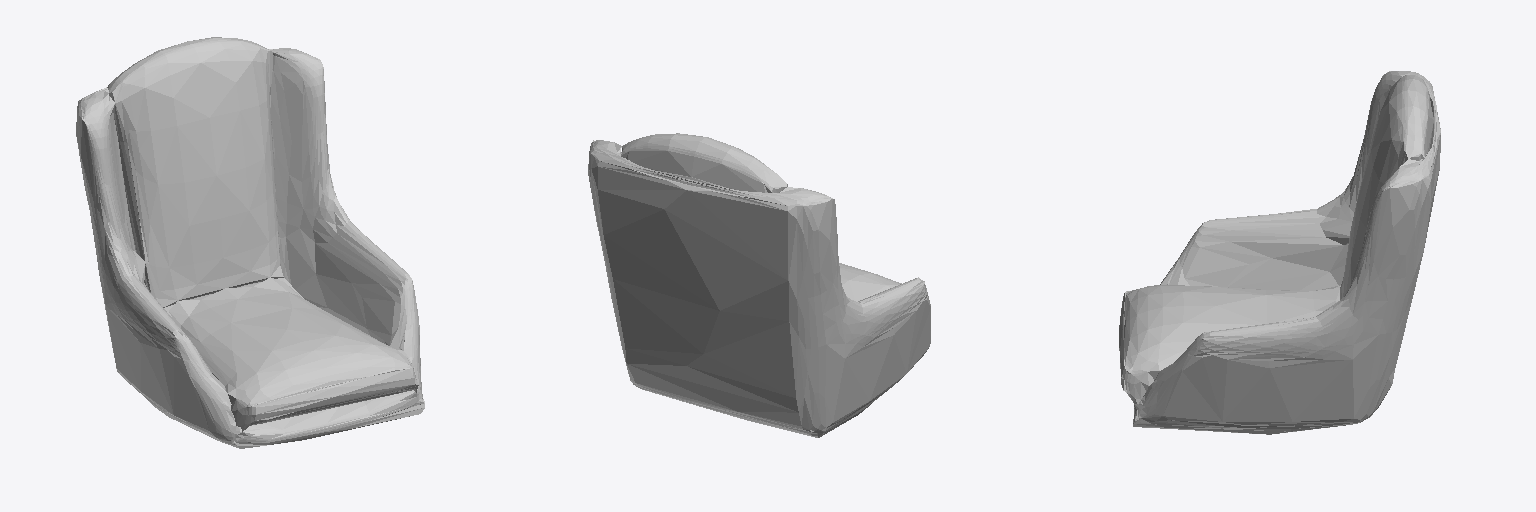
The model's file is chair3.obj.
The picture shows the model from 3 angles: view 1: azimuth 30°, elevation 25°; view 2: azimuth 150°, elevation 25°; view 3: azimuth 270°, elevation 25°; orthographic projection.
Visible parts, largest first — view 1: Armchair3:Mesh; view 2: Armchair3:Mesh; view 3: Armchair3:Mesh.
Boxes of the visible parts, <box> form: Armchair3:Mesh: <box>76,37,424,448</box>; Armchair3:Mesh: <box>588,133,930,437</box>; Armchair3:Mesh: <box>1119,71,1440,434</box>.
Bounding box in the file's own units: 0.379 × 0.4883 × 0.4314.